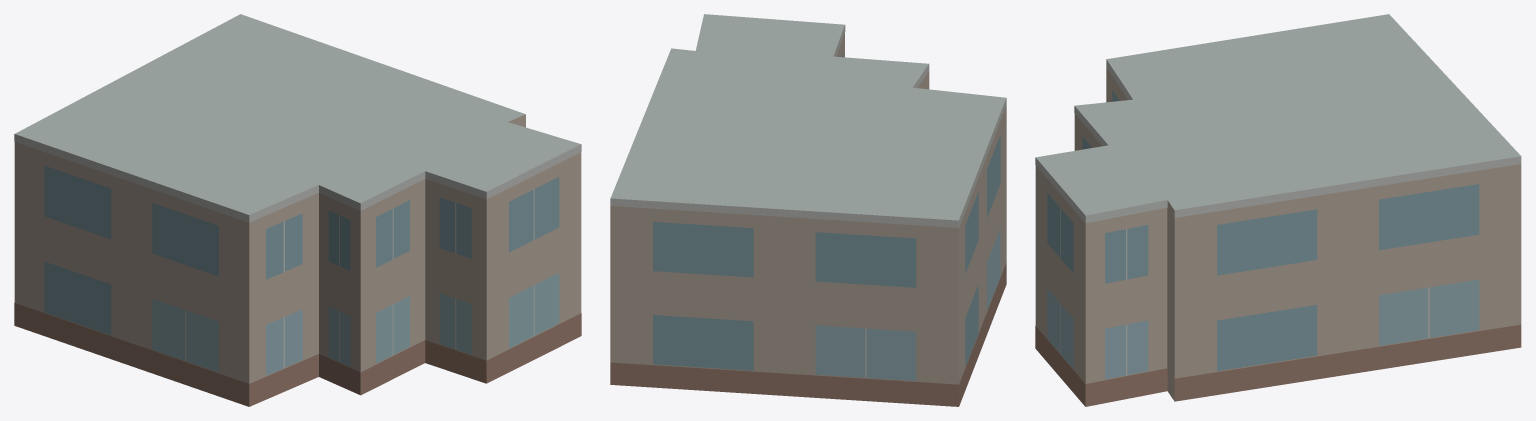
The model's file is survey-upis-32738009.glb.
3 views of the same model, side by side, from view 1: azimuth 30°, elevation 25°; view 2: azimuth 150°, elevation 25°; view 3: azimuth 270°, elevation 25° (orthographic). The views are drawn at different scales.
Parts seen in each view (by area): view 1: survey-upis-32738009.tmp; view 2: survey-upis-32738009.tmp; view 3: survey-upis-32738009.tmp.
Boxes of the visible parts, bbox=[...] form: survey-upis-32738009.tmp: bbox=[14, 14, 581, 406]; survey-upis-32738009.tmp: bbox=[610, 14, 1006, 406]; survey-upis-32738009.tmp: bbox=[1035, 14, 1521, 406].
Bounding box in the file's own units: 13.81 × 6.1 × 14.06.
